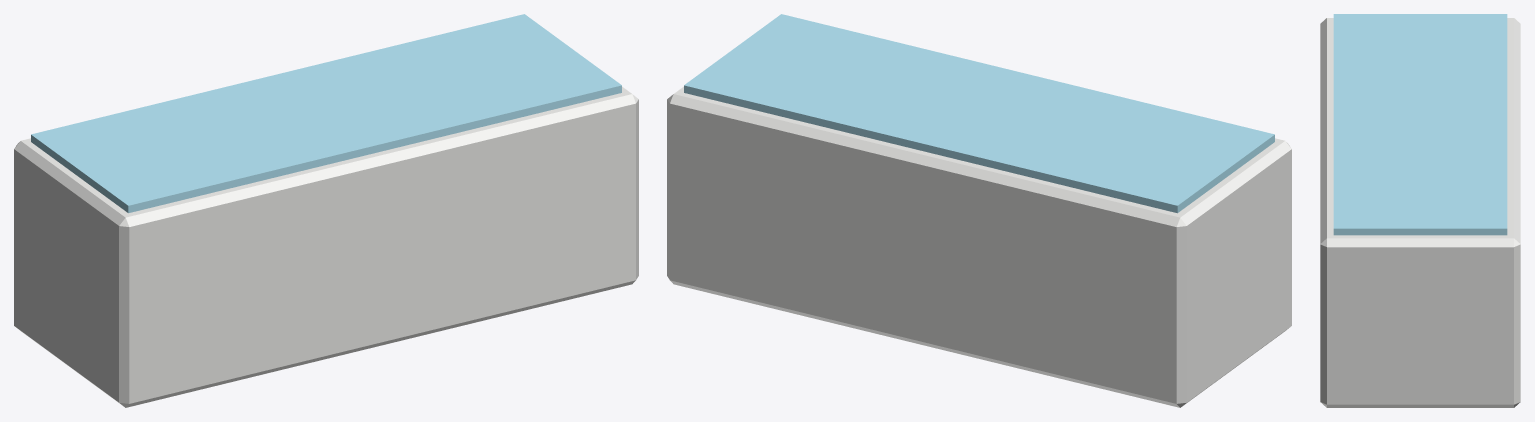
File: FreezerChest.fbx
3 views of the same model, side by side, from view 1: azimuth 30°, elevation 25°; view 2: azimuth 150°, elevation 25°; view 3: azimuth 270°, elevation 25° (orthographic). The views are drawn at different scales.
Parts seen in each view (by area): view 1: FreezerChest; view 2: FreezerChest; view 3: FreezerChest.
Boxes of the visible parts, <box> form: FreezerChest: <box>14,14,638,407</box>; FreezerChest: <box>667,14,1291,407</box>; FreezerChest: <box>1320,14,1520,407</box>.
Bounding box in the file's own units: 8 × 2.91 × 3.
1 material, 1 textured.
